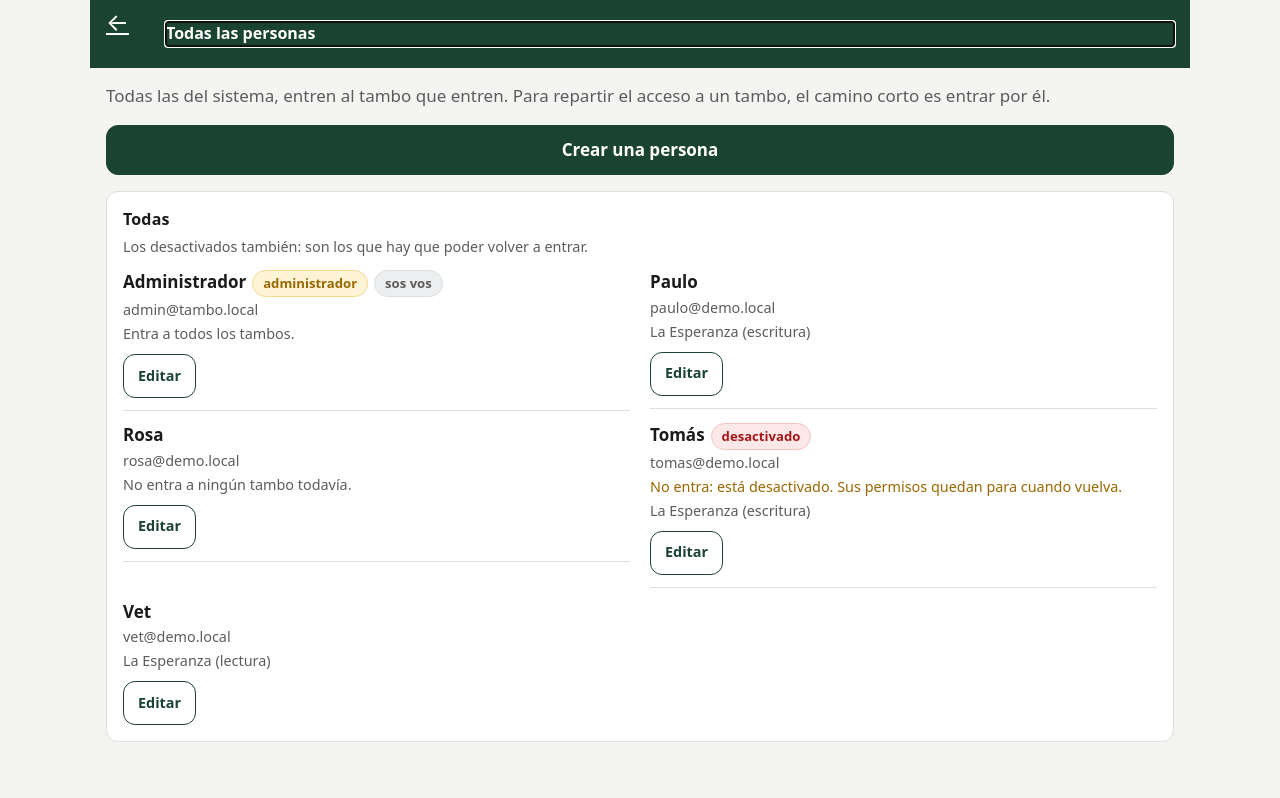
it: las personas › crear una persona muestra su contraseña una vez, para poder decírsela
Click the button "Crear una persona": {"x": 640, "y": 150} [106,125,1174,175]
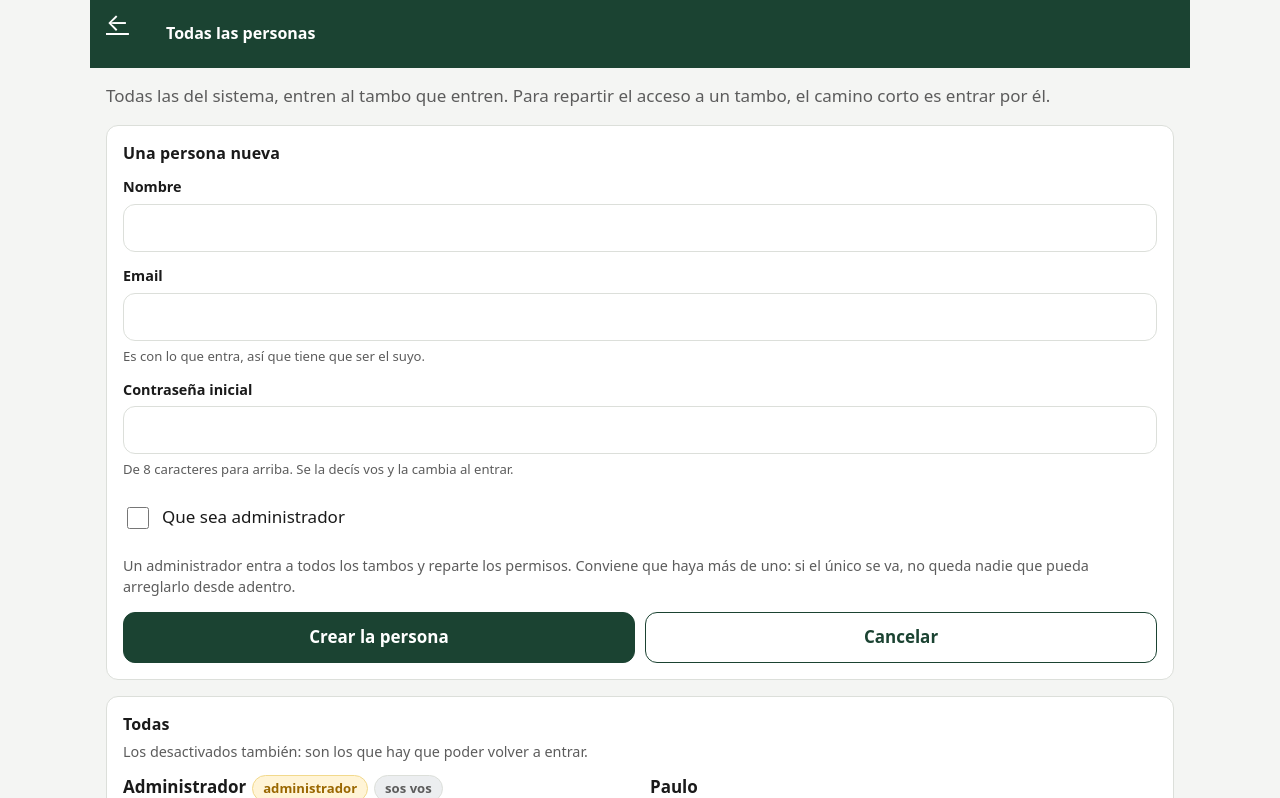
In the field labelled "Nombre": {"x": 640, "y": 228} [123,204,1157,252], type "Rosa"
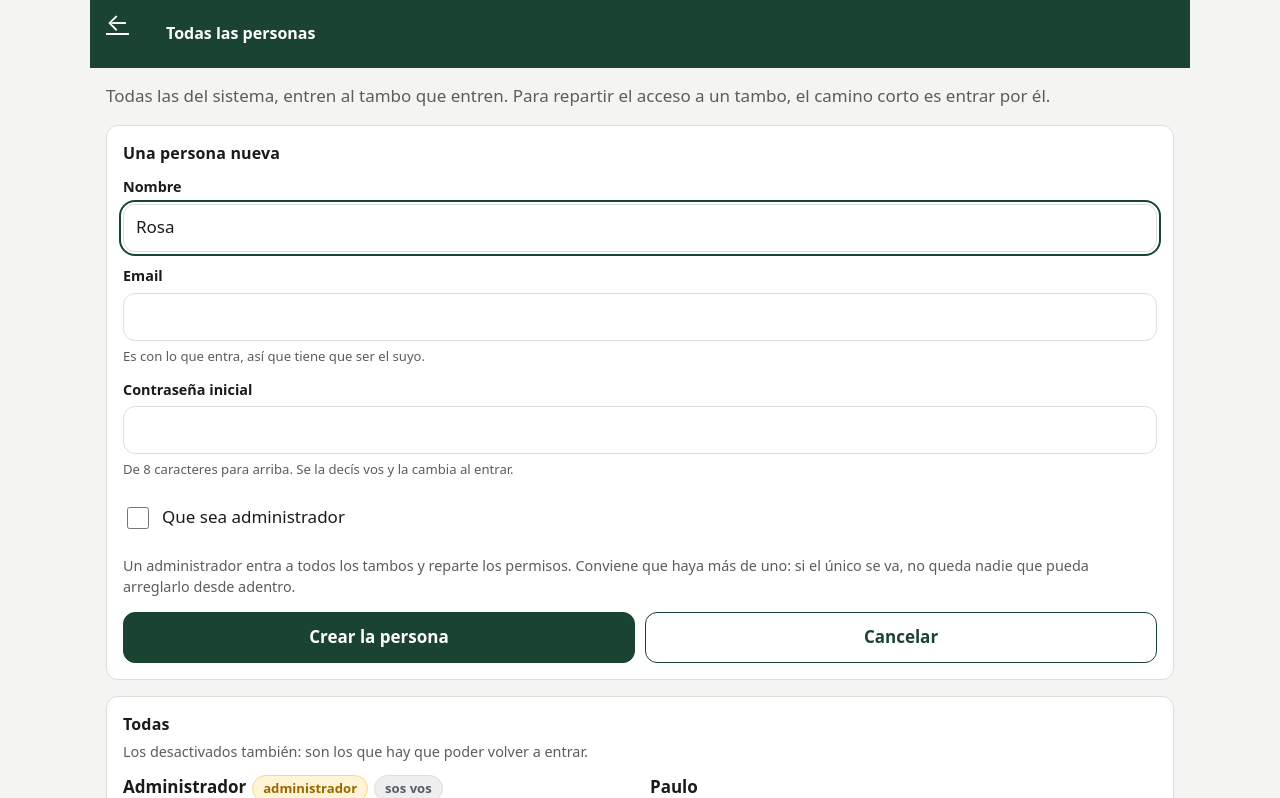
In the field labelled "Email": {"x": 640, "y": 317} [123,293,1157,341], type "rosa@demo.local"
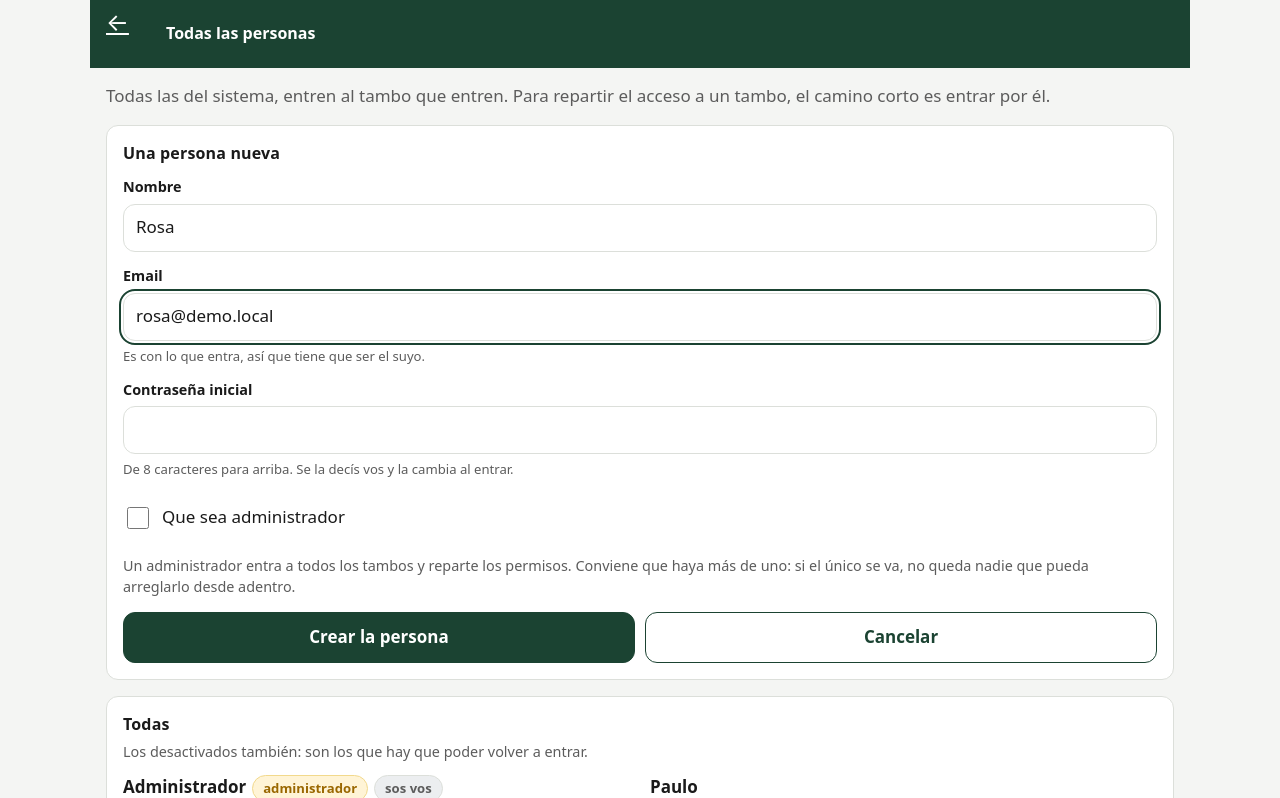
In the field labelled "Contraseña inicial": {"x": 640, "y": 430} [123,406,1157,454], type "la-inicial"
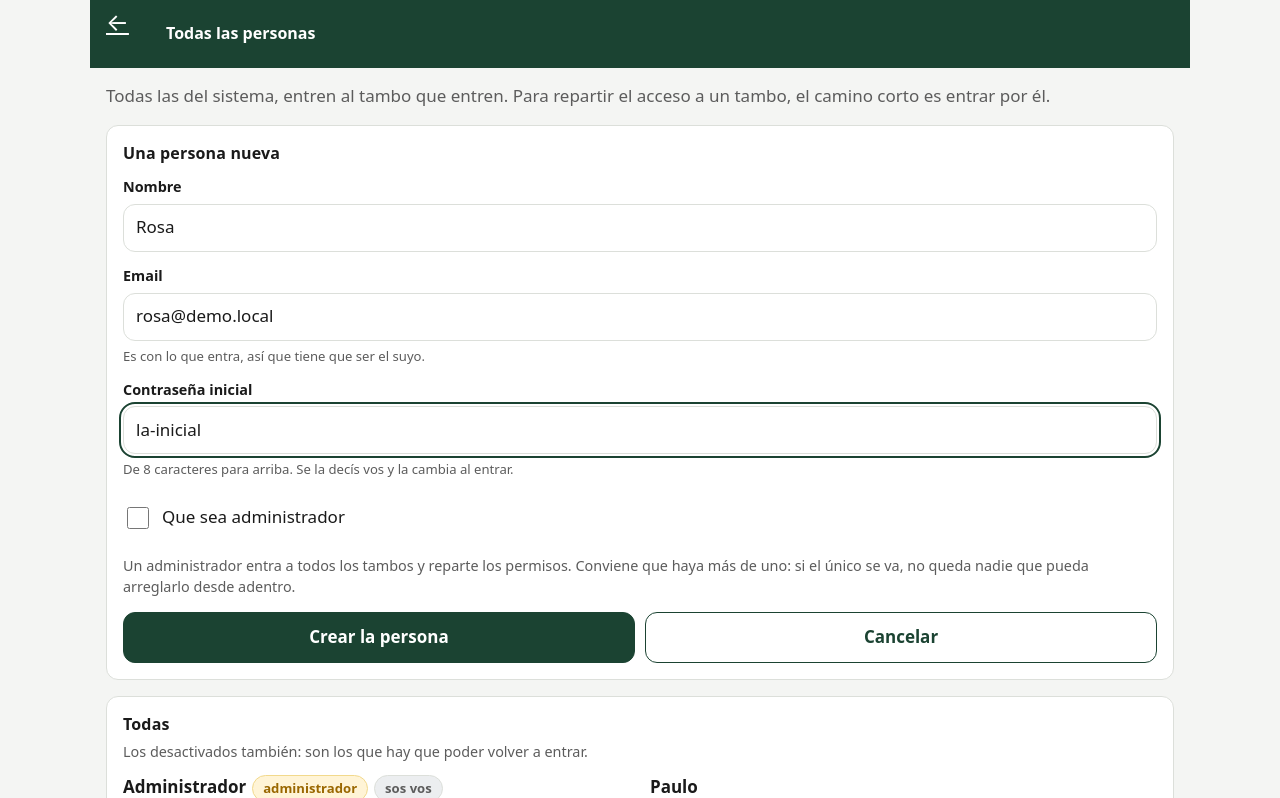
Click the button "Crear la persona": {"x": 379, "y": 637} [123,612,635,663]
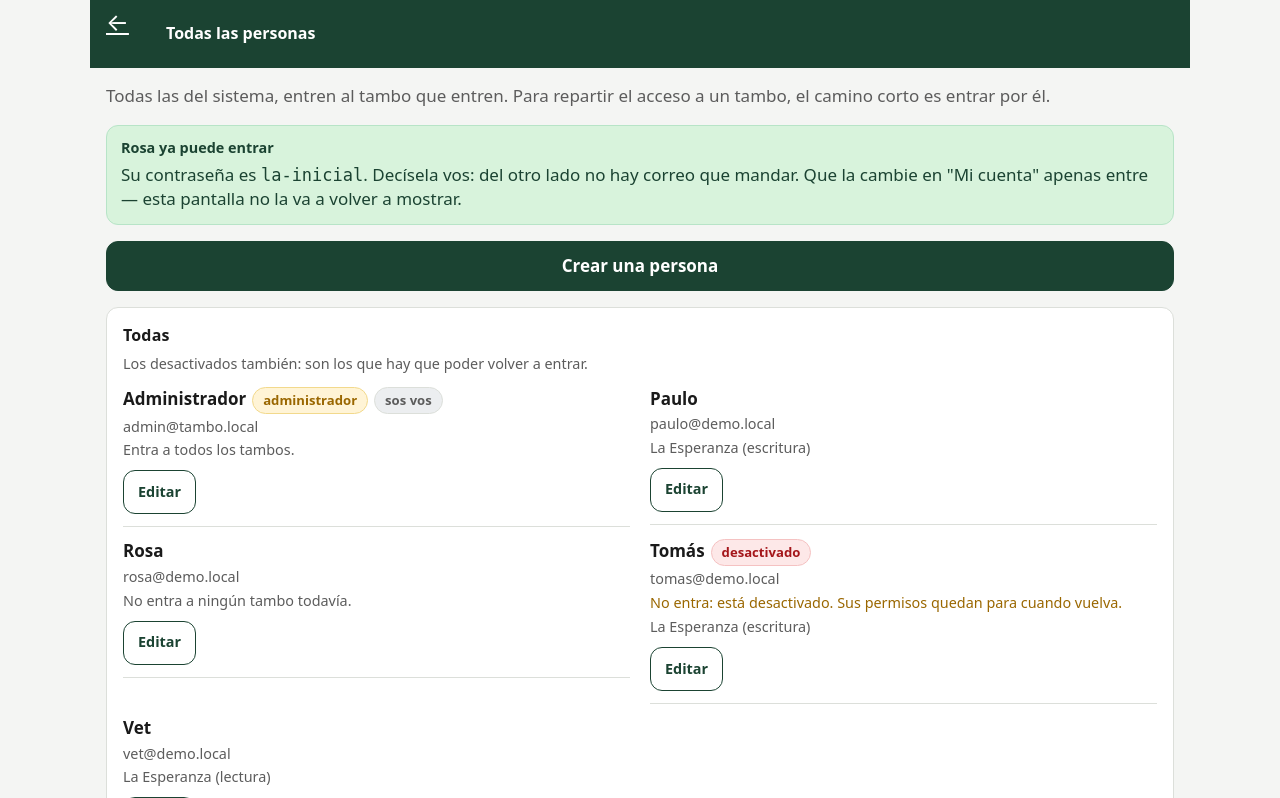
Check: the heading "Rosa ya puede entrar" is shown, box [121,138,274,157]
Check: the text "la-inicial" is shown, box [261,164,363,184]
